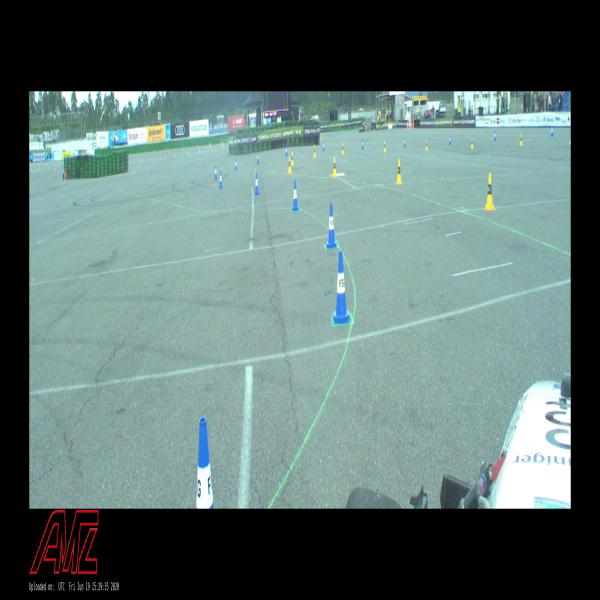blue_cone: (196, 417, 214, 508), (333, 250, 350, 323), (326, 203, 336, 249), (292, 180, 299, 210), (255, 173, 260, 194), (219, 171, 223, 188), (214, 165, 218, 179), (234, 158, 238, 170), (550, 126, 554, 136), (285, 145, 288, 156), (322, 142, 325, 150), (257, 152, 259, 163), (494, 131, 496, 141), (449, 135, 451, 144), (403, 138, 405, 146), (362, 140, 363, 148)
large_orange_cone: (412, 117, 414, 128)
yellow_cone: (485, 173, 495, 210), (396, 159, 402, 183), (332, 157, 337, 176), (290, 152, 294, 166), (288, 156, 291, 173), (519, 134, 523, 145), (313, 145, 316, 157), (341, 143, 344, 154), (470, 138, 473, 148), (383, 141, 386, 151), (425, 140, 428, 150), (570, 133, 570, 144)
